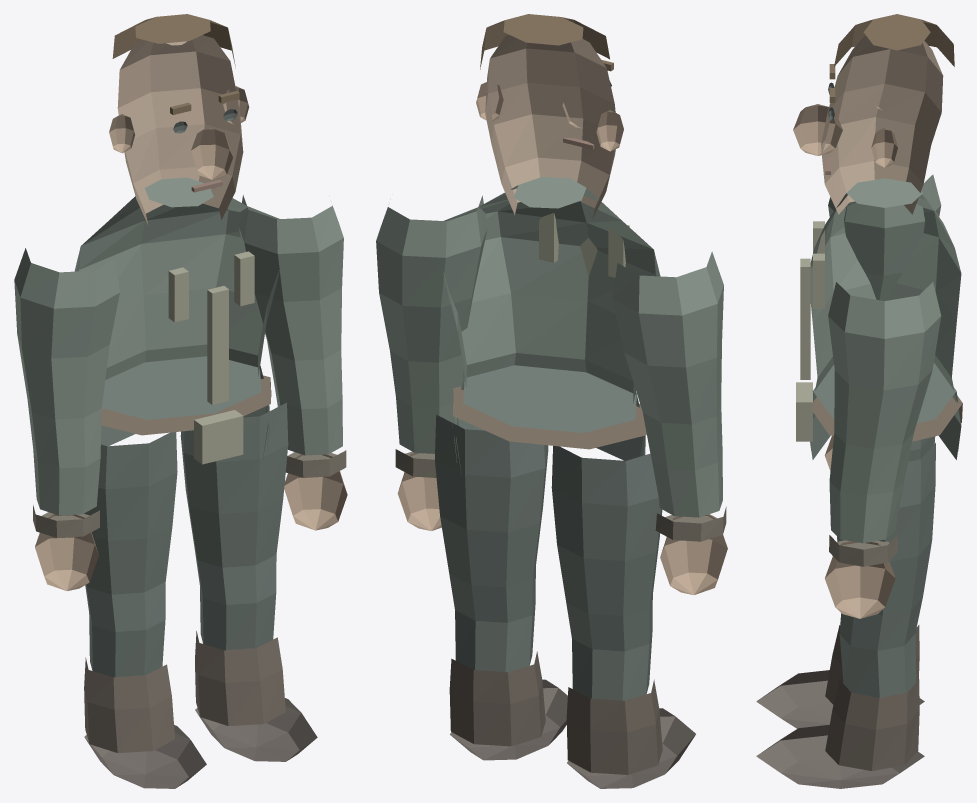
File: worker_1000_2.glb
The picture shows the model from 3 angles, left to right: view 1: azimuth 30°, elevation 25°; view 2: azimuth 150°, elevation 25°; view 3: azimuth 270°, elevation 25°; orthographic projection. The views are drawn at different scales.
Parts seen in each view (by area): view 1: body_0, leftArm_0, rightLeg_0, rightArm_0, leftLeg_0, head_0, body_1, leftLeg_1, rightLeg_1, rightLeg_2, leftLeg_2, leftArm_2 (+11 smaller); view 2: body_0, leftLeg_0, rightLeg_0, leftArm_0, rightArm_0, head_0, body_1, leftLeg_1, rightLeg_1, body_2, leftArm_2, head_9 (+8 smaller); view 3: rightArm_0, head_0, rightLeg_0, body_0, rightLeg_1, leftArm_0, rightLeg_2, rightArm_2, head_9, leftLeg_2, body_1, head_1 (+8 smaller).
Part boxes in pixels (bbox=[...]): body_0: bbox=[74, 177, 279, 450]; leftArm_0: bbox=[14, 248, 119, 515]; rightLeg_0: bbox=[180, 402, 288, 650]; rightArm_0: bbox=[238, 195, 343, 455]; leftLeg_0: bbox=[84, 432, 177, 677]; head_0: bbox=[117, 35, 243, 223]; body_1: bbox=[101, 356, 268, 458]; leftLeg_1: bbox=[84, 657, 174, 752]; rightLeg_1: bbox=[195, 631, 285, 725]; rightLeg_2: bbox=[195, 698, 317, 761]; leftLeg_2: bbox=[84, 725, 206, 788]; leftArm_2: bbox=[35, 514, 98, 590]; body_0: bbox=[443, 177, 660, 462]; leftLeg_0: bbox=[551, 446, 662, 700]; rightLeg_0: bbox=[435, 415, 548, 672]; leftArm_0: bbox=[612, 251, 723, 517]; rightArm_0: bbox=[376, 195, 487, 453]; head_0: bbox=[485, 35, 615, 219]; body_1: bbox=[456, 365, 643, 474]; leftLeg_1: bbox=[566, 679, 662, 774]; rightLeg_1: bbox=[449, 651, 545, 746]; body_2: bbox=[452, 386, 646, 449]; leftArm_2: bbox=[660, 514, 727, 594]; head_9: bbox=[480, 14, 609, 69]; rightArm_0: bbox=[828, 282, 941, 543]; head_0: bbox=[821, 36, 943, 214]; rightLeg_0: bbox=[837, 443, 935, 697]; body_0: bbox=[810, 178, 961, 450]; rightLeg_1: bbox=[825, 679, 919, 770]; leftArm_0: bbox=[828, 174, 941, 300]; rightLeg_2: bbox=[756, 725, 924, 788]; rightArm_2: bbox=[824, 541, 895, 618]; head_9: bbox=[834, 14, 954, 66]; leftLeg_2: bbox=[756, 670, 924, 728]; body_1: bbox=[810, 363, 961, 459]; head_1: bbox=[793, 104, 842, 155].
Size of the model in its own units: 0.774 by 1.66 by 0.431.
